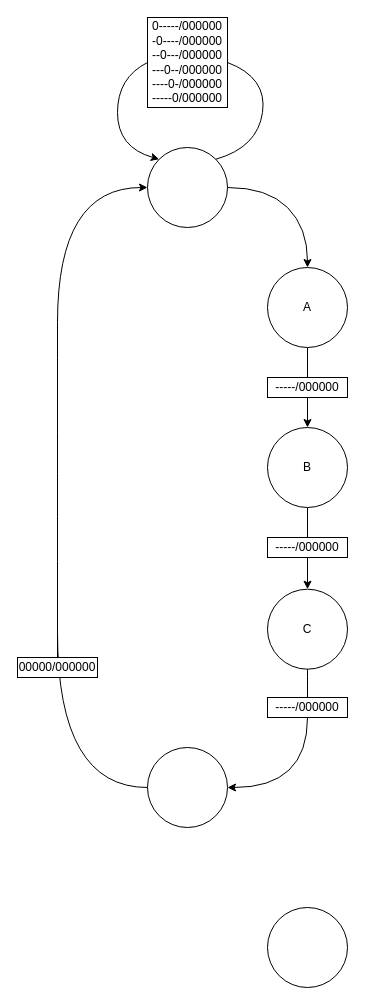
Some shapes in this 365 by 1005 pixel diagram are drawn without their labels. The shapes that lost their labels are listed below. From the top down, each one's centre as x and y in pixels, then its label:
(187,187): Sleep
(187,787): Awake
